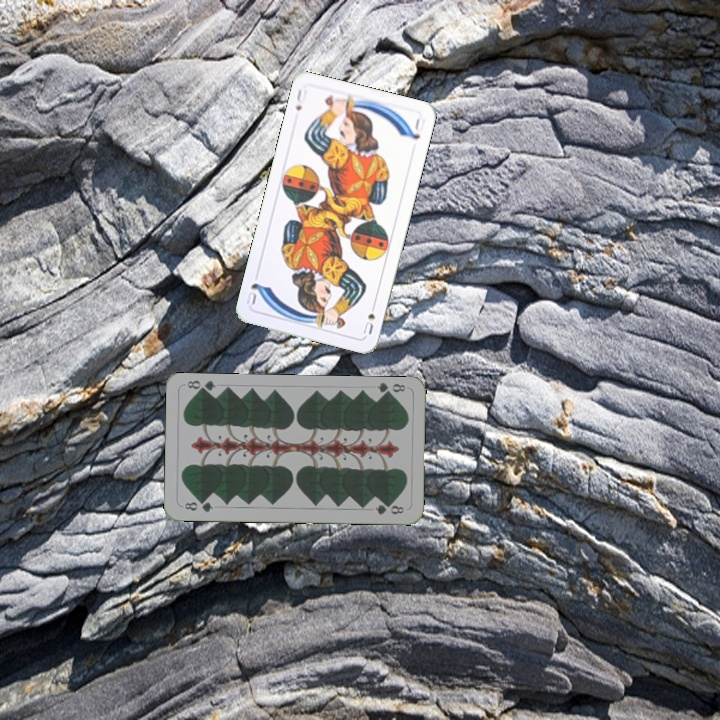G8: (373, 379, 408, 399), (180, 497, 216, 515)
SU: (359, 298, 379, 337), (292, 85, 309, 113)
